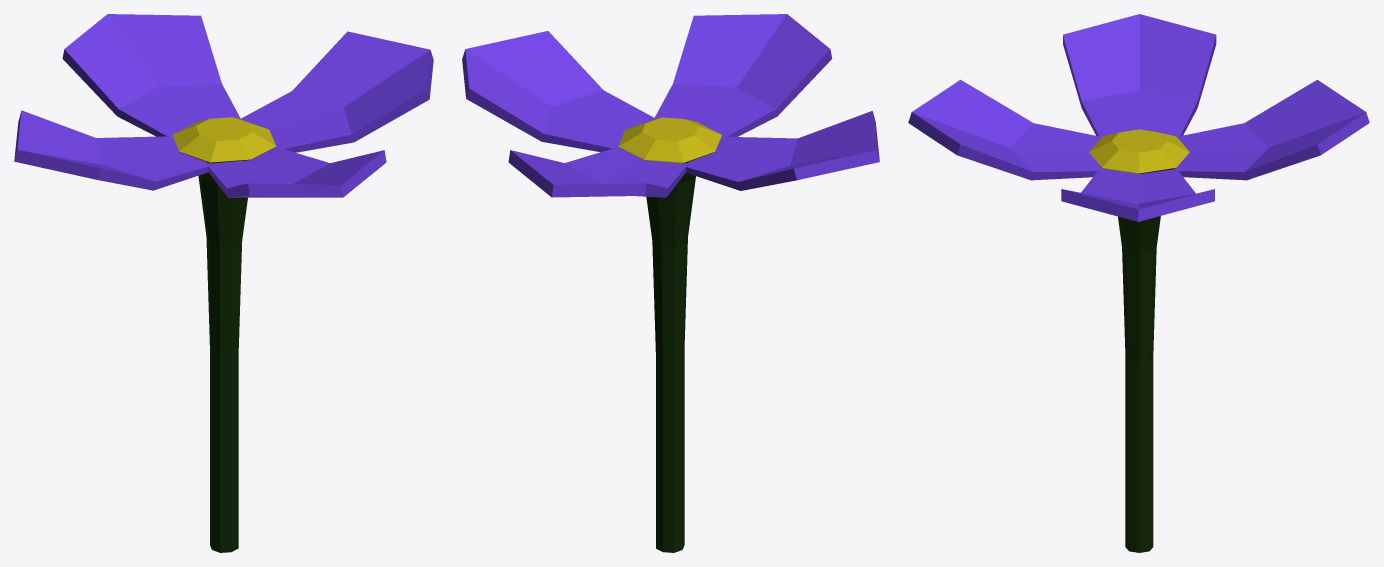
Rendered from flower2.fbx.
3 views of the same model, side by side, from view 1: azimuth 30°, elevation 25°; view 2: azimuth 150°, elevation 25°; view 3: azimuth 270°, elevation 25° (orthographic). The views are drawn at different scales.
Parts seen in each view (by area): view 1: Plane.001, Cube.043, Cube.044, Cube.045, Cube.046; view 2: Plane.001, Cube.046, Cube.044, Cube.045, Cube.043; view 3: Cube.045, Plane.001, Cube.046, Cube.043, Cube.044.
Boxes of the visible parts, box(x1,y1,x2,y2) form: Plane.001: box(172, 117, 276, 552); Cube.043: box(62, 14, 240, 138); Cube.044: box(241, 31, 433, 152); Cube.045: box(14, 110, 208, 190); Cube.046: box(207, 147, 386, 197); Plane.001: box(618, 117, 721, 552); Cube.046: box(653, 14, 832, 138); Cube.044: box(462, 31, 654, 152); Cube.045: box(686, 111, 879, 190); Cube.043: box(508, 147, 687, 197); Cube.045: box(1063, 14, 1216, 136); Plane.001: box(1089, 129, 1189, 552); Cube.046: box(908, 79, 1106, 180); Cube.043: box(1171, 79, 1369, 180); Cube.044: box(1061, 169, 1214, 221).
Size of the model in its own units: 3343 by 3414 by 3283.
